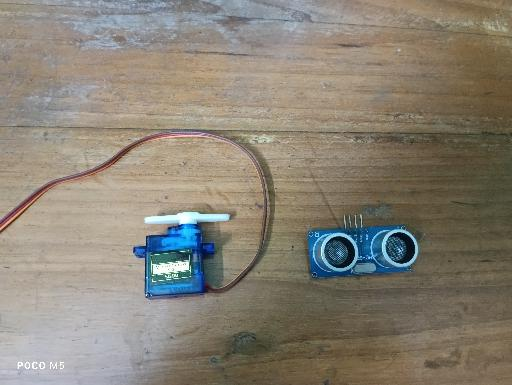Motor: (133, 212, 230, 300)
sensor: (307, 215, 418, 279)
